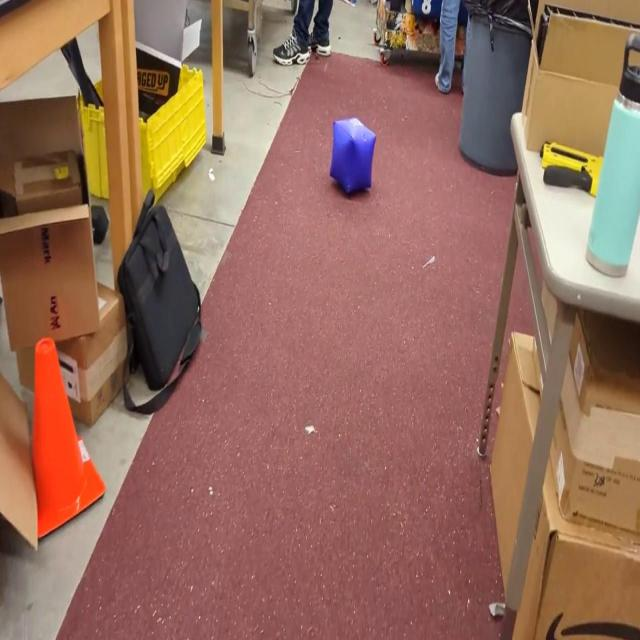frc_cube: (330, 114, 376, 197)
